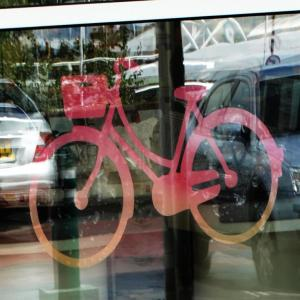Vehicle-registration-plate: (1, 146, 17, 167)
